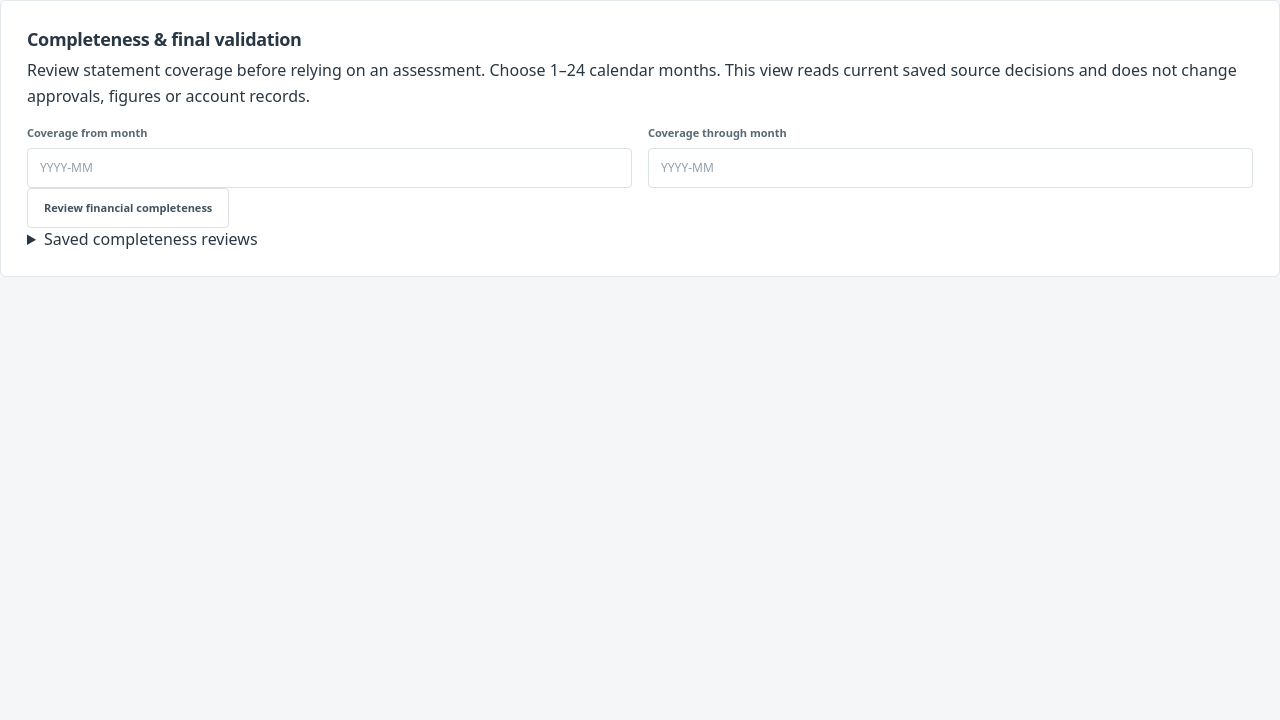
it: requires a period and shows authoritative coverage, unknown source dates, excluded rows and explicit blocks
Type "2026-09" into the field labelled "Coverage from month" at (330, 168), box [27, 148, 632, 188]
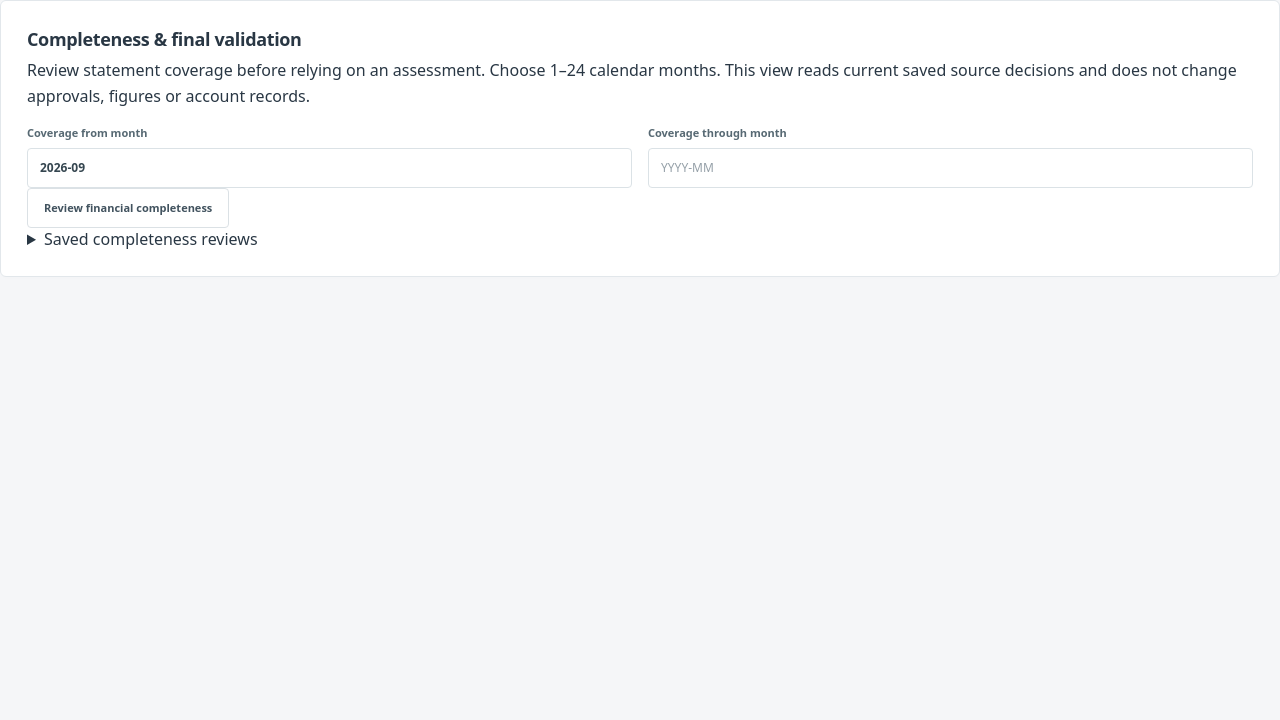
Type "2026-09" into the field labelled "Coverage through month" at (950, 168), box [648, 148, 1253, 188]
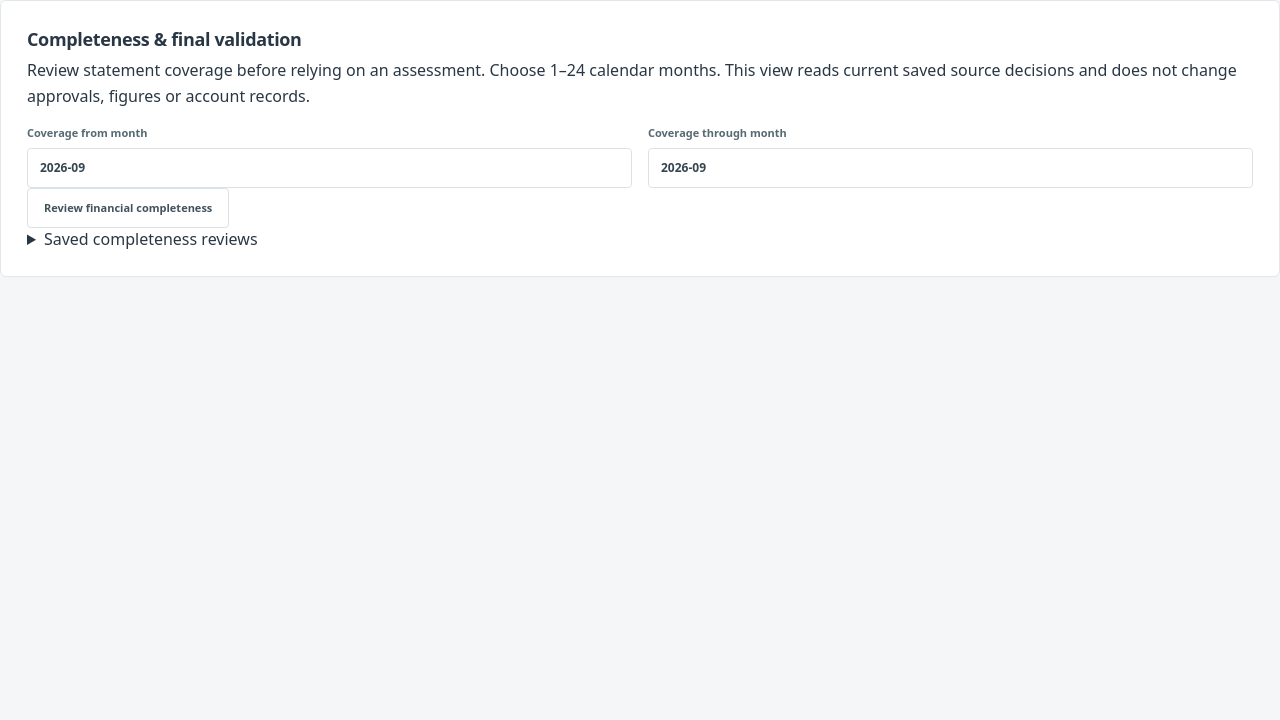
Click the button "Review financial completeness" at (128, 208), box [27, 188, 229, 228]
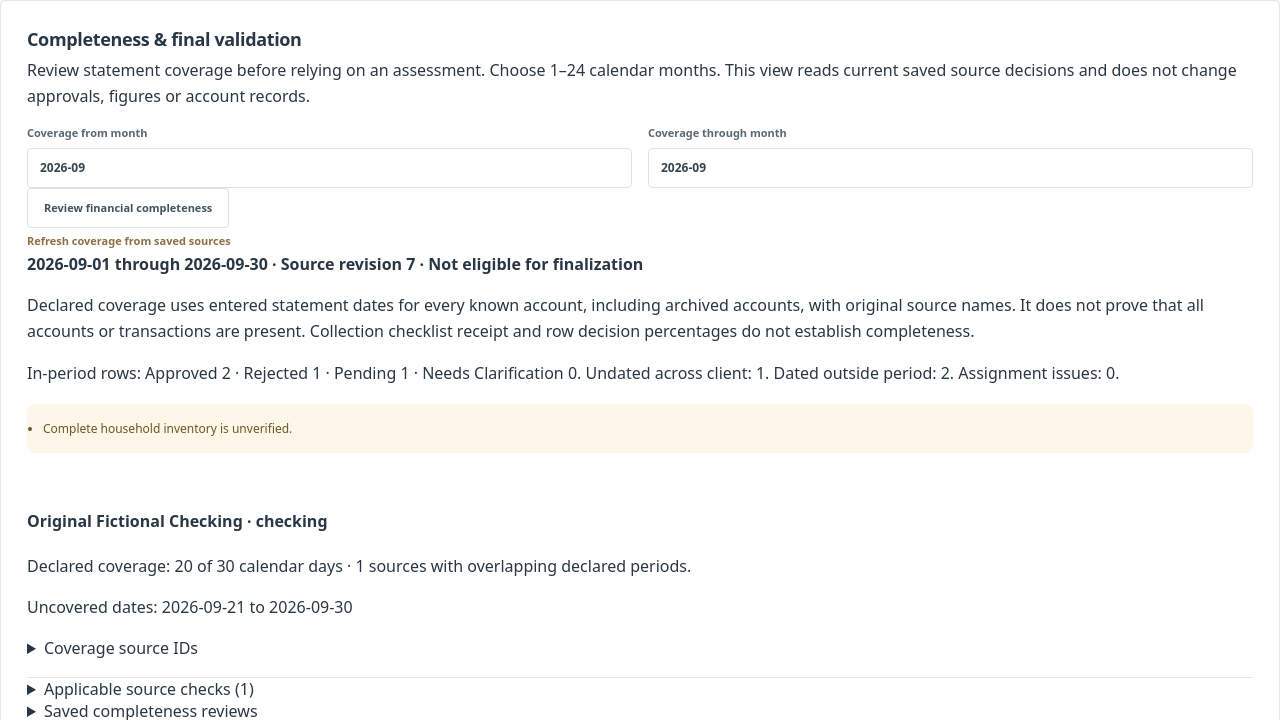
Check: the element named "Statement coverage results" shows "Rejected 1", box [27, 252, 1253, 700]
Check: the element named "Statement coverage results" shows "Not eligible for finalization", box [415, 253, 643, 275]
Replace the text in the field labelled "Coverage from month" with "2026-08" at (330, 168), box [27, 148, 632, 188]
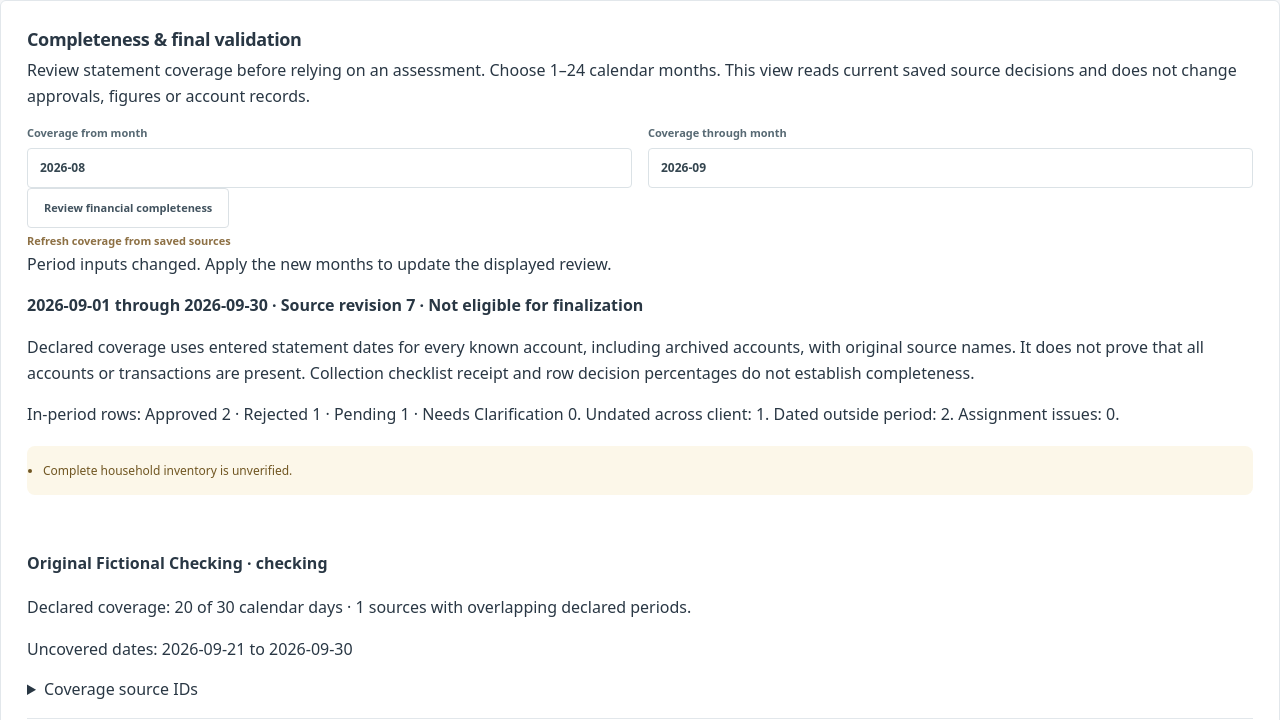
Check: the message shows "Period inputs changed", box [27, 253, 612, 275]
Click the button "Refresh coverage from saved sources" at (129, 240), box [27, 229, 231, 252]
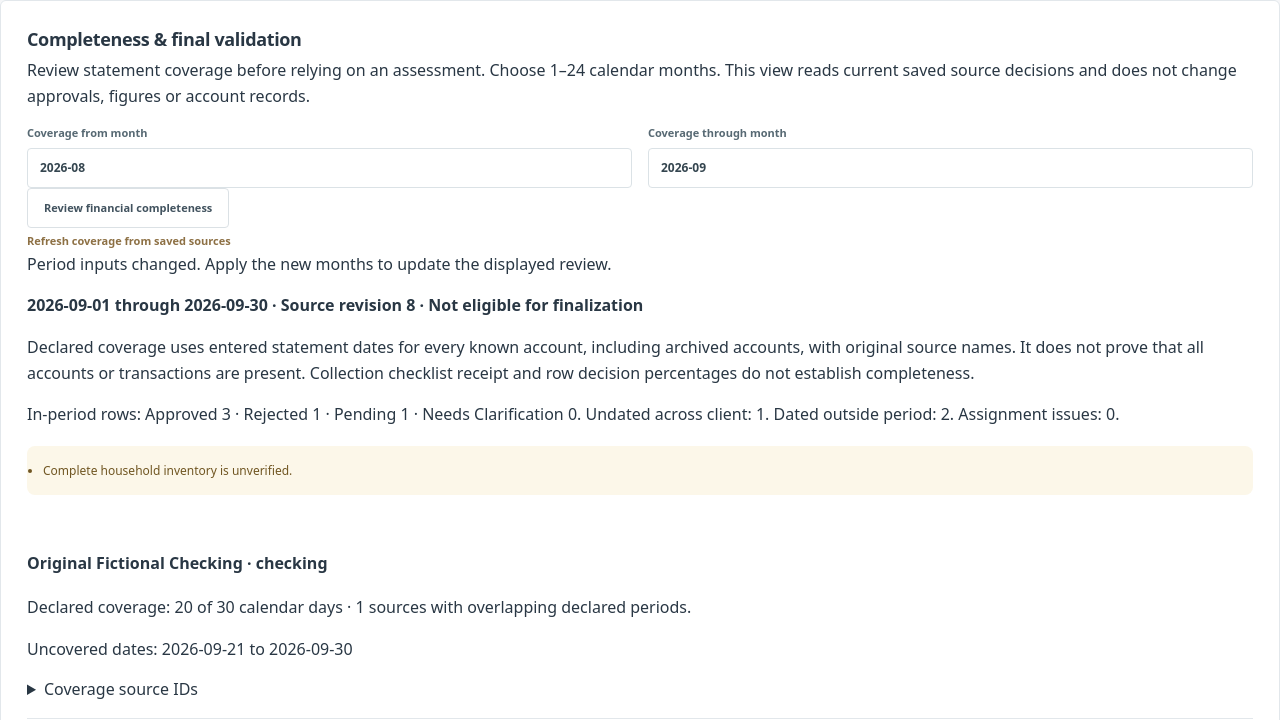
Check: the text "Source revision 8" is shown, box [27, 294, 643, 316]
